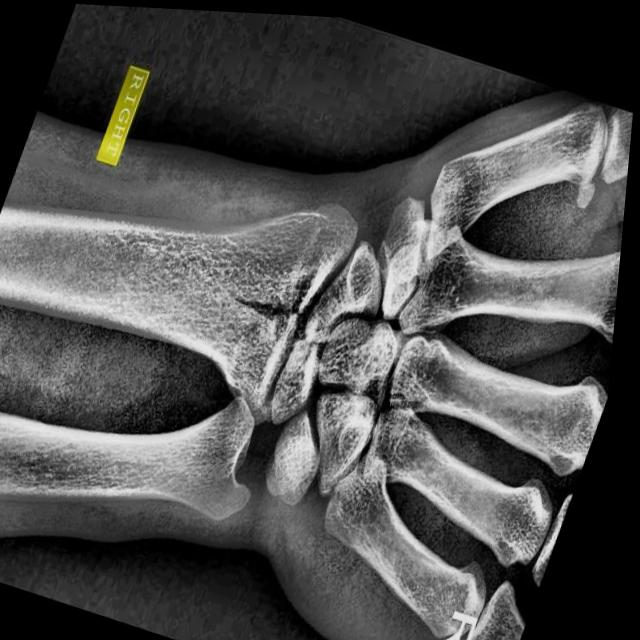fracture: (226, 254, 316, 336)
